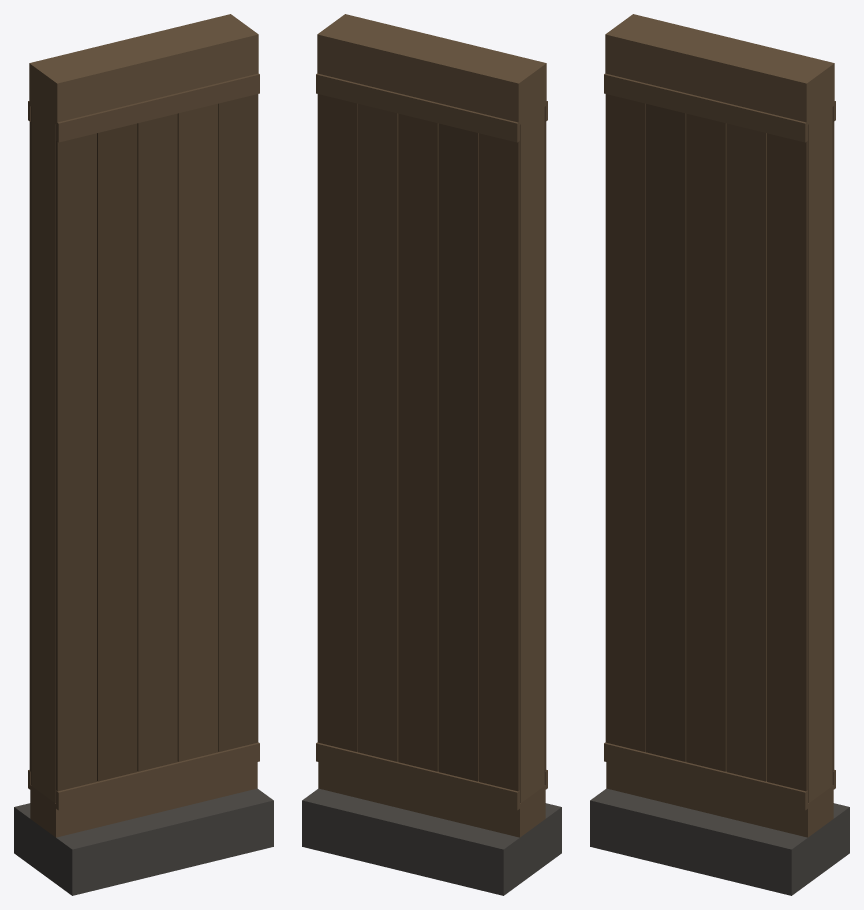
File: wall_bay.glb
3 renders of one model, left to right at view 1: azimuth 30°, elevation 25°; view 2: azimuth 150°, elevation 25°; view 3: azimuth 330°, elevation 25°, orthographic.
Parts seen in each view (by area): view 1: TimberBay; view 2: TimberBay; view 3: TimberBay.
Boxes of the visible parts, box(x1,y1,x2,y2) form: TimberBay: box(14, 14, 273, 895); TimberBay: box(302, 14, 561, 895); TimberBay: box(590, 14, 849, 895).
Size of the model in its own units: 1 by 3.8 by 0.5.
